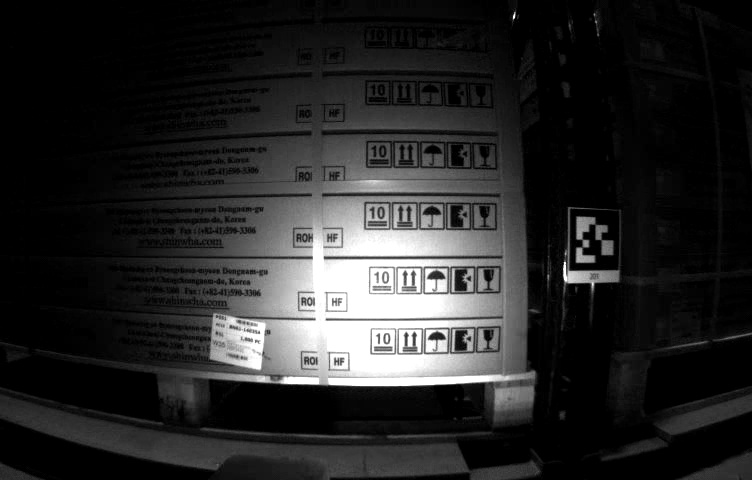True Barcode: (209, 308, 264, 373), (673, 313, 701, 343)
